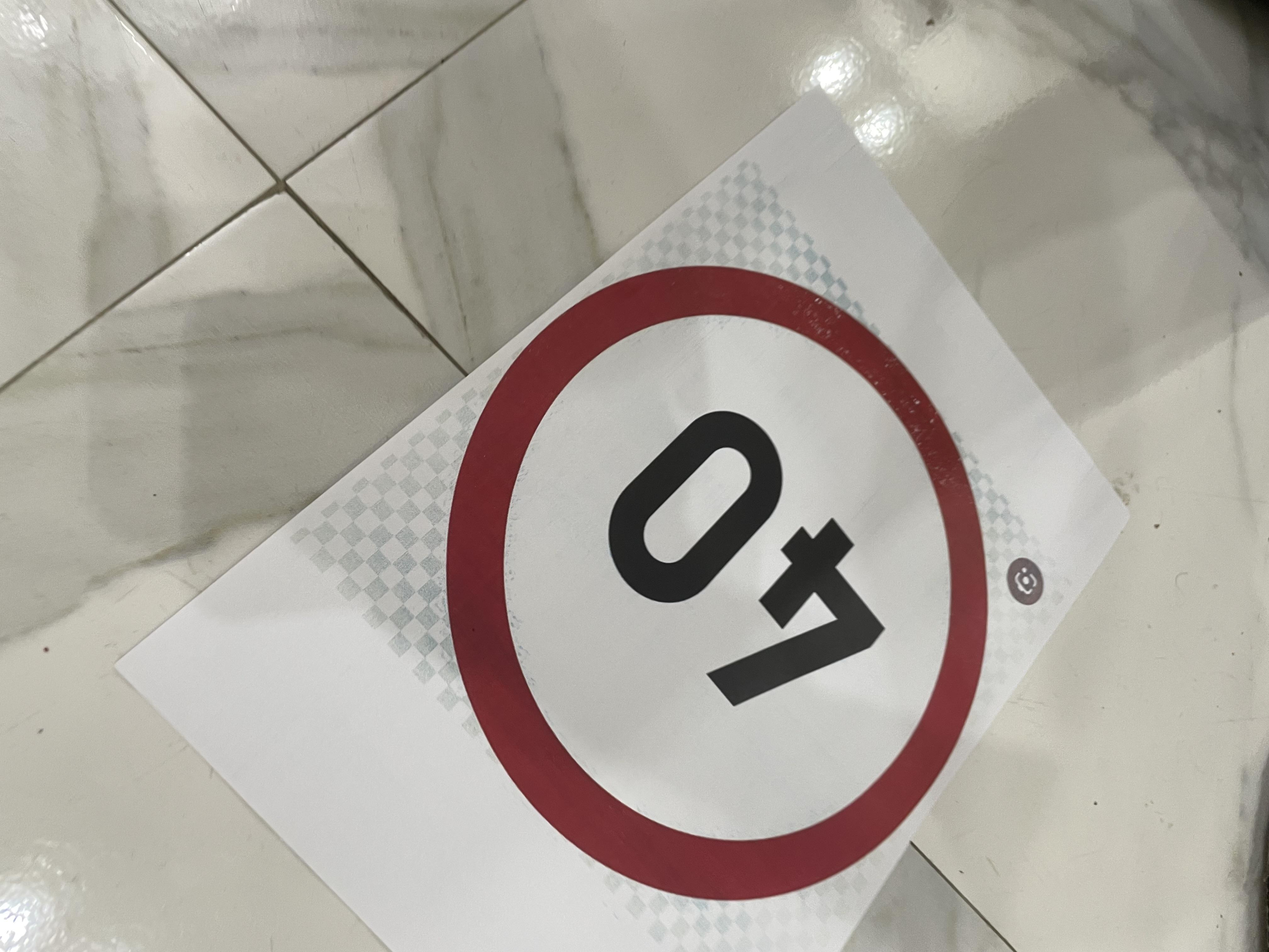40-Speed: (341, 196, 1217, 619)
